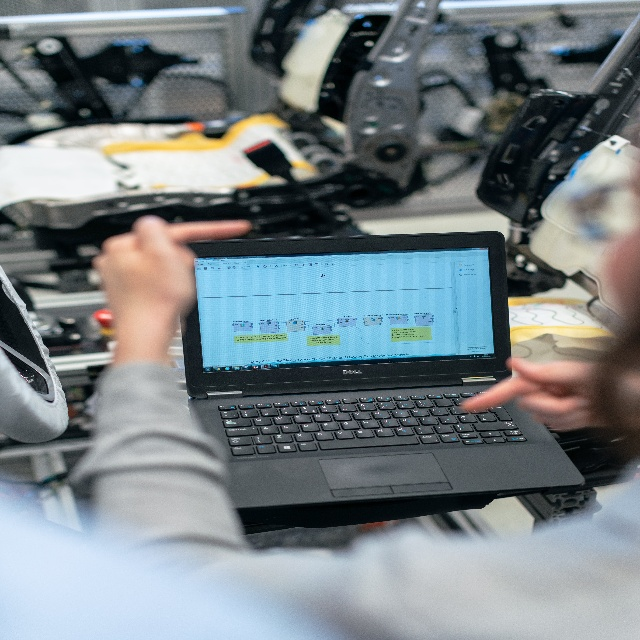Sin_guantes: (94, 209, 197, 321), (467, 356, 601, 435)
